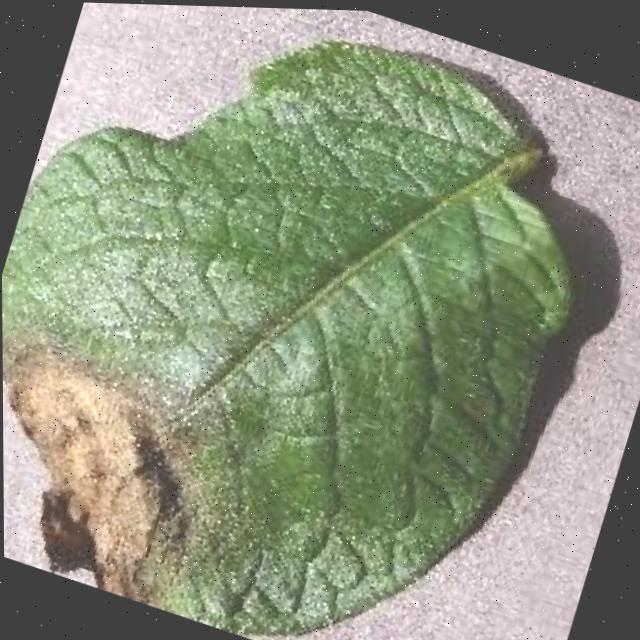Late_blight: (2, 319, 244, 616)
